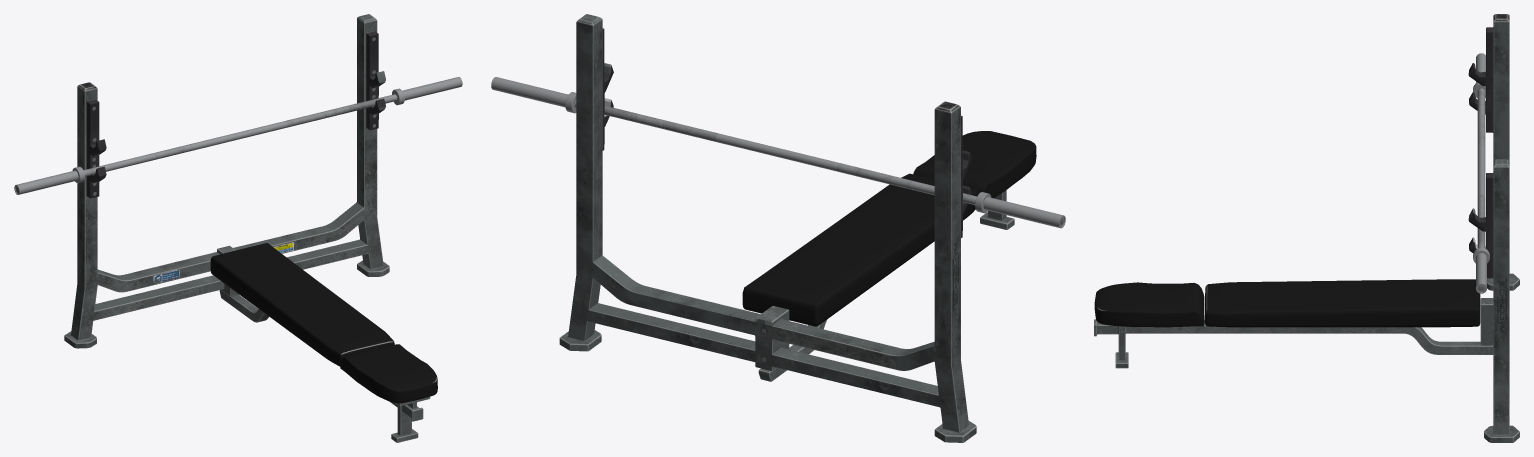
Rendered from flat_bench.glb.
3 renders of one model, left to right at view 1: azimuth 30°, elevation 25°; view 2: azimuth 150°, elevation 25°; view 3: azimuth 270°, elevation 25°, orthographic. The views are drawn at different scales.
Visible parts, largest first — view 1: Cube.034, Cube.033, BARBELL low.002, Cube.032; view 2: Cube.034, Cube.033, BARBELL low.002, Cube.032; view 3: Cube.034, Cube.033, Cube.032, BARBELL low.002.
Part boxes in pixels (<box>): Cube.034: <box>64,14,430,442</box>; Cube.033: <box>210,243,394,366</box>; BARBELL low.002: <box>14,77,462,194</box>; Cube.032: <box>340,344,437,403</box>; Cube.034: <box>559,14,1014,442</box>; Cube.033: <box>742,173,978,326</box>; BARBELL low.002: <box>491,77,1065,228</box>; Cube.032: <box>913,131,1036,198</box>; Cube.034: <box>1094,14,1519,442</box>; Cube.033: <box>1205,279,1480,327</box>; Cube.032: <box>1094,282,1204,327</box>; BARBELL low.002: <box>1473,53,1489,293</box>.
Size of the model in its own units: 2.44 by 1.35 by 1.9.
Materials: 2 (2 with a texture image).
